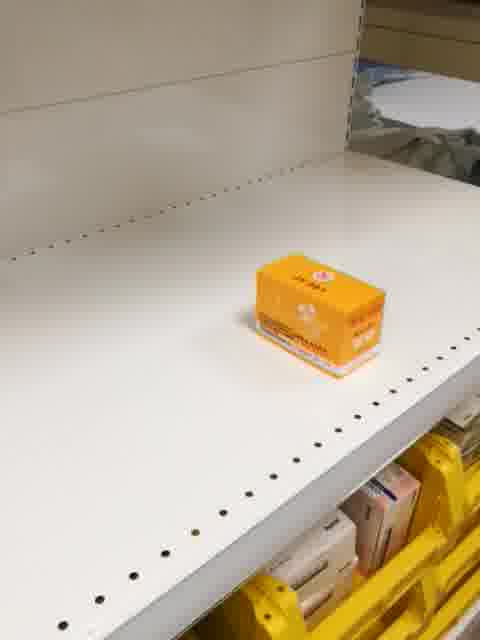jasminetea: (254, 252, 389, 384)
